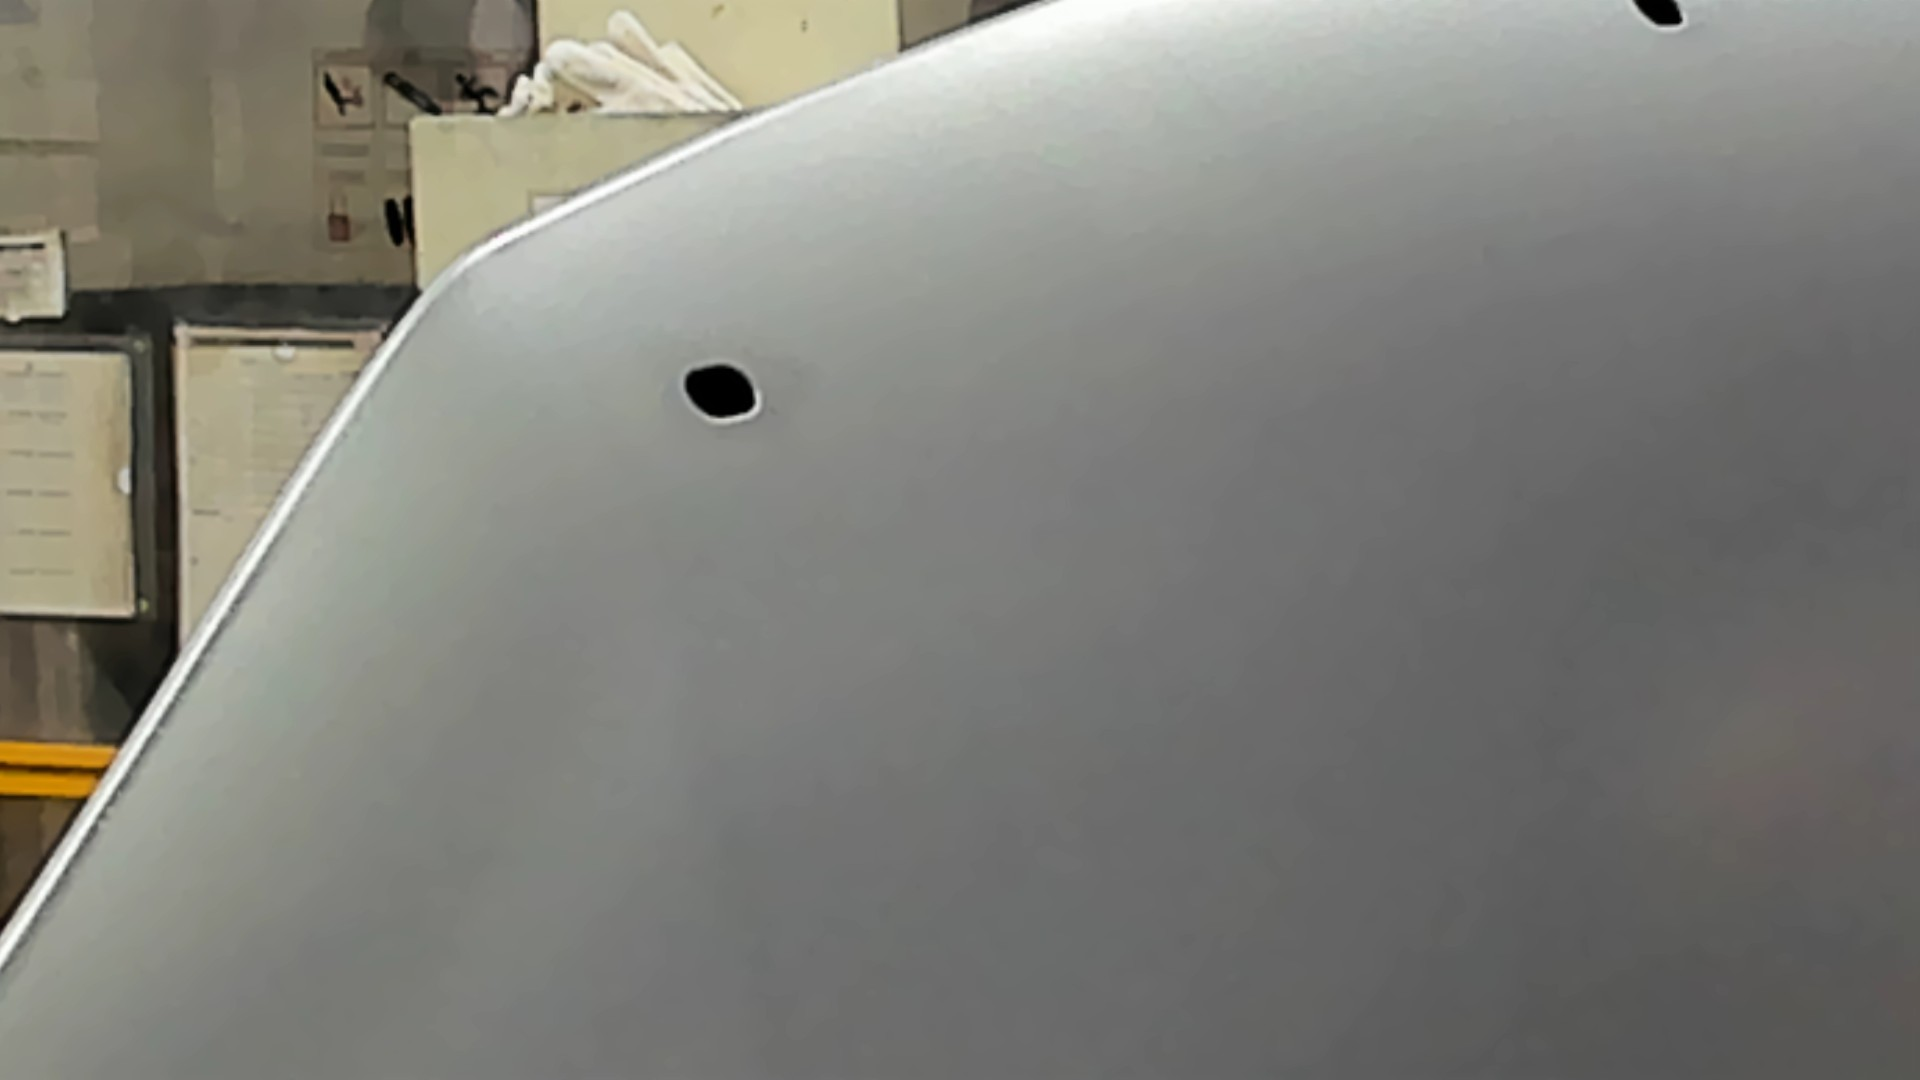amorfo: (670, 355, 777, 433), (1610, 1, 1702, 36)
capo: (873, 105, 1920, 1080)
